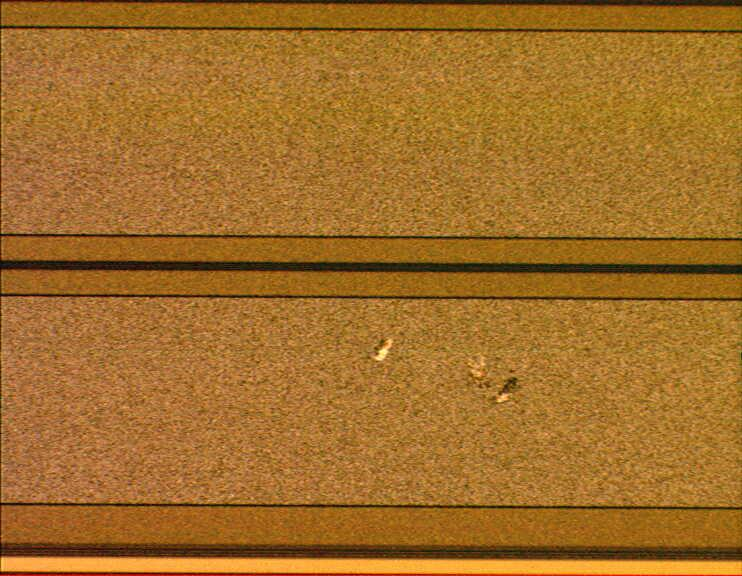SCRATCH: (355, 325, 543, 413)
